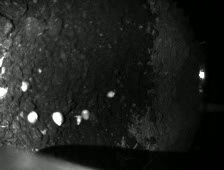corn: (49, 109, 65, 128), (24, 109, 40, 125), (79, 108, 93, 122), (18, 79, 31, 94), (104, 88, 117, 100), (73, 112, 84, 126)
